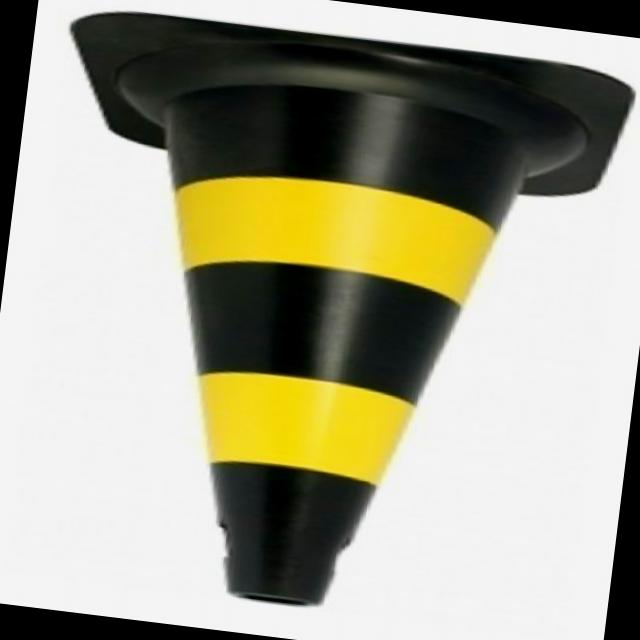cone: (87, 29, 562, 621)
